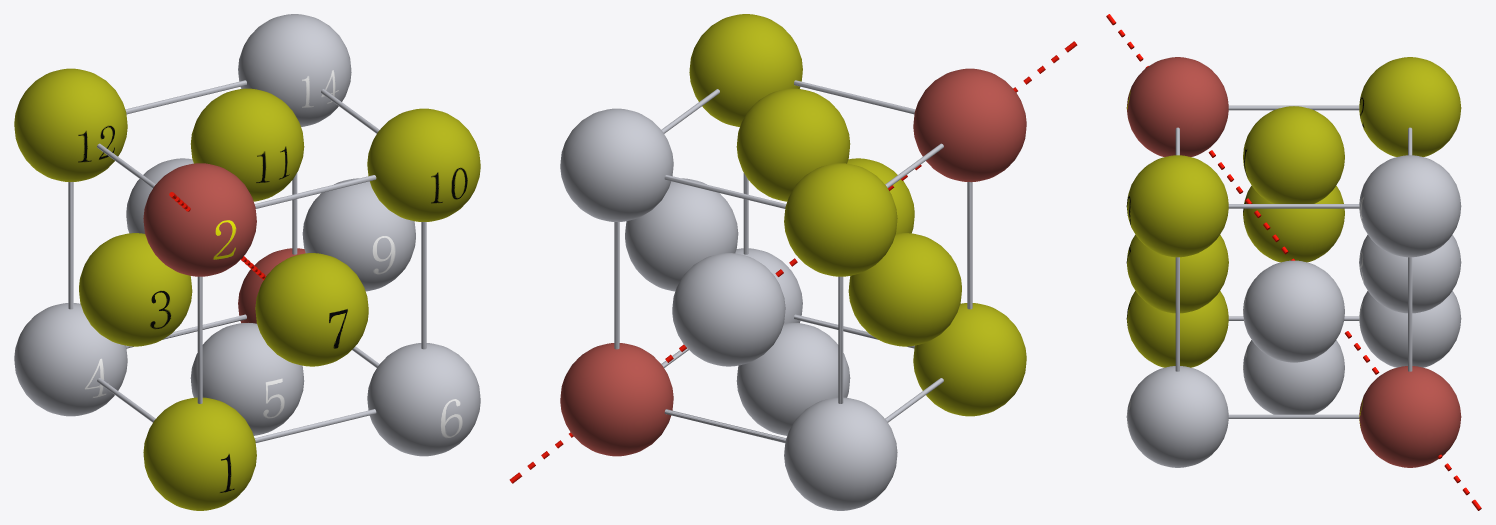
The model's file is yibaiba.FBX.
3 views of the same model, side by side, from view 1: azimuth 30°, elevation 25°; view 2: azimuth 150°, elevation 25°; view 3: azimuth 270°, elevation 25° (orthographic). The views are drawn at different scales.
Visible parts, largest first — view 1: A032, A023, A027, A024, A021, A029, A031, A022, A030, A028, A026, A025 (+3 smaller); view 2: A029, A033, A022, A028, A013, A021, A031, A023, A030, A027, A026, A025 (+4 smaller); view 3: A027, A028, A026, A024, A013, A030, A021, A029, A025, A032, A033, A022 (+4 smaller).
Boxes of the visible parts, box(x1,y1,x2,y2) form: A032: box(255, 253, 368, 366); A023: box(143, 397, 256, 510); A027: box(367, 108, 480, 221); A024: box(367, 343, 480, 456); A021: box(143, 163, 256, 276); A029: box(14, 68, 127, 182); A031: box(79, 233, 192, 346); A022: box(14, 303, 127, 416); A030: box(190, 88, 304, 201); A028: box(238, 14, 351, 126); A026: box(302, 178, 415, 291); A025: box(190, 323, 304, 435); A029: box(784, 163, 897, 276); A033: box(672, 253, 785, 366); A022: box(784, 397, 897, 510); A028: box(560, 108, 673, 221); A013: box(560, 343, 673, 456); A021: box(913, 68, 1026, 182); A031: box(848, 233, 961, 346); A023: box(913, 303, 1026, 416); A030: box(736, 88, 850, 201); A027: box(689, 14, 802, 126); A026: box(625, 178, 738, 291); A025: box(736, 323, 850, 435); A027: box(1126, 155, 1228, 257); A028: box(1359, 155, 1461, 257); A026: box(1243, 260, 1344, 362); A024: box(1126, 366, 1228, 467); A013: box(1359, 366, 1461, 467); A030: box(1243, 106, 1344, 203); A021: box(1126, 57, 1228, 156); A029: box(1359, 57, 1461, 156); A025: box(1243, 340, 1344, 414); A032: box(1126, 234, 1228, 313); A033: box(1359, 234, 1461, 313); A022: box(1359, 291, 1461, 367).
Size of the model in its own units: 80.82 by 80.82 by 80.82.
